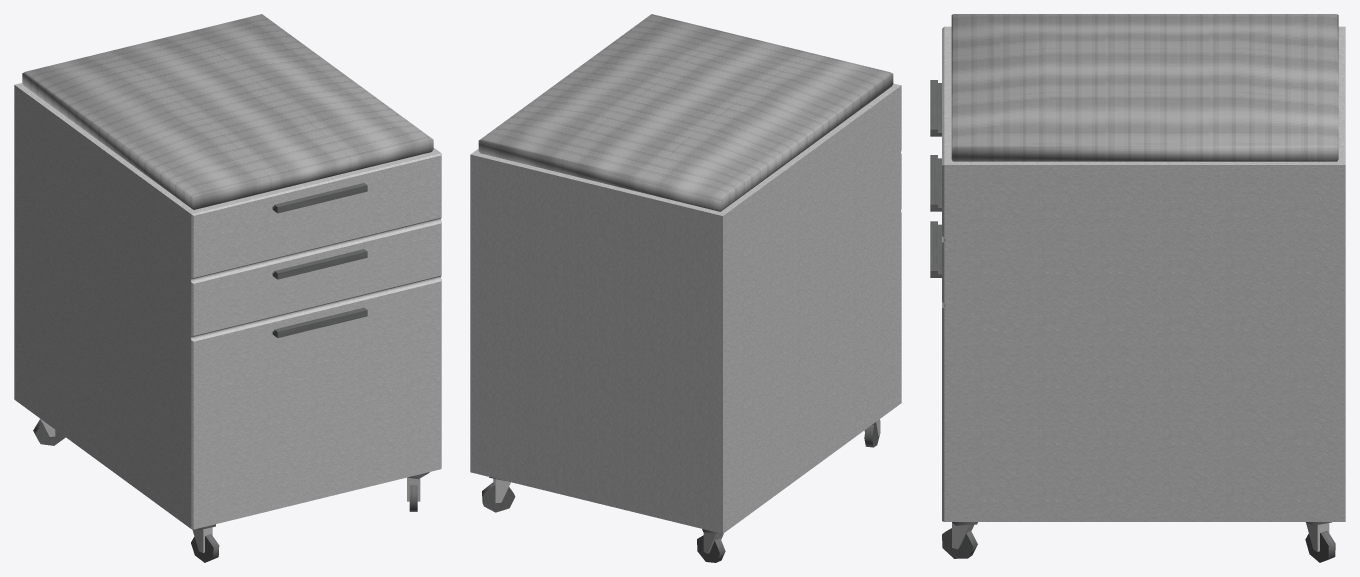
File: Cabinet_Files.fbx
3 renders of one model, left to right at view 1: azimuth 30°, elevation 25°; view 2: azimuth 150°, elevation 25°; view 3: azimuth 270°, elevation 25°, orthographic. The views are drawn at different scales.
Parts seen in each view (by area): view 1: Cabinet_Files; view 2: Cabinet_Files; view 3: Cabinet_Files.
Boxes of the visible parts, x1,y1,x2,y2 form: Cabinet_Files: (14,14,441,562); Cabinet_Files: (470,14,901,562); Cabinet_Files: (930,14,1345,562).
Bounding box in the file's own units: 45.99 × 66.45 × 58.33.
